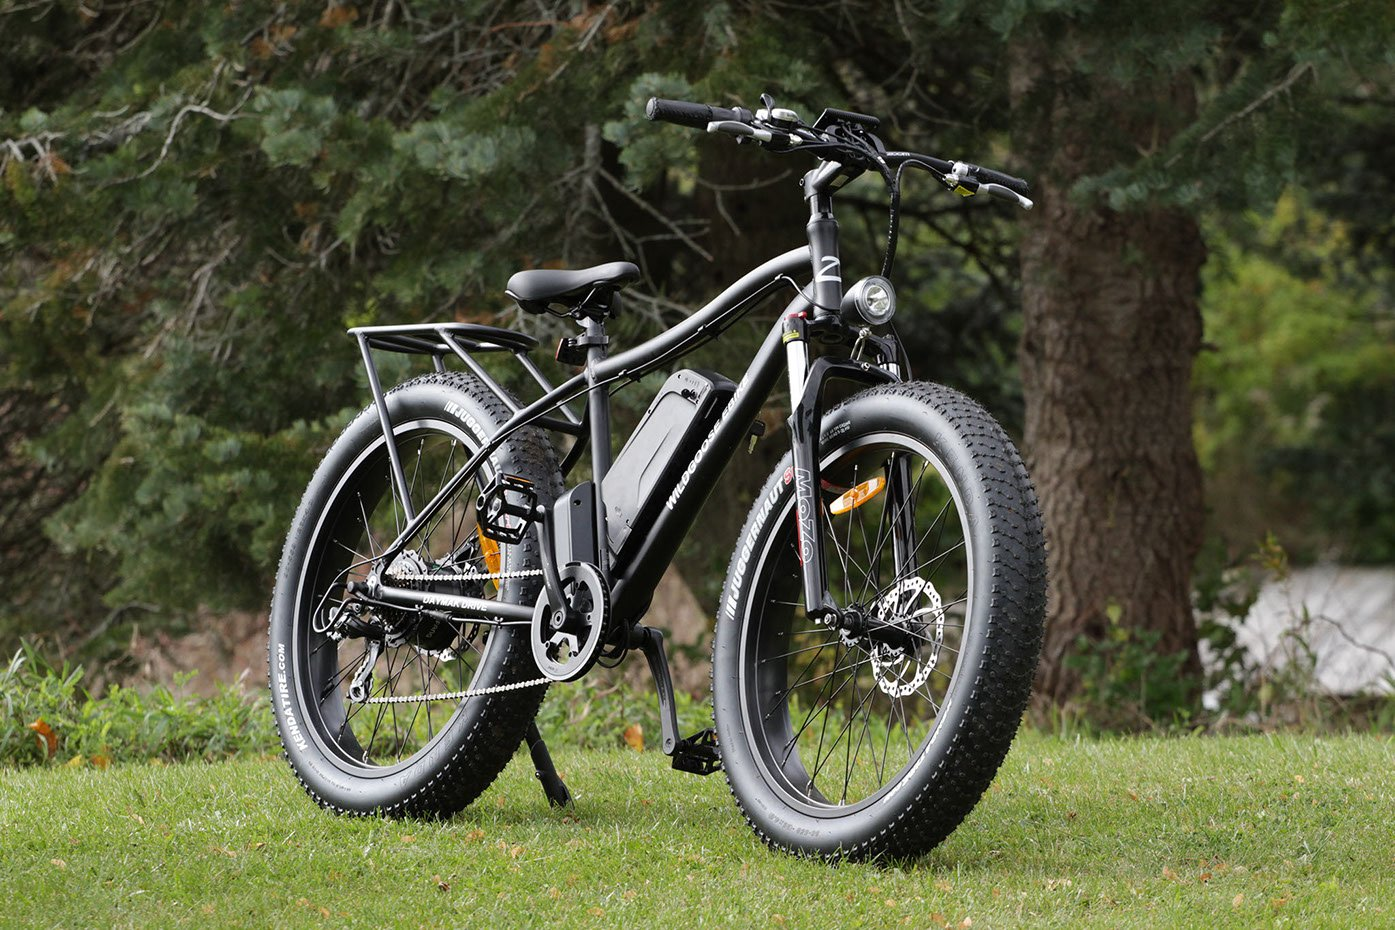bicycle: (264, 76, 1059, 883)
